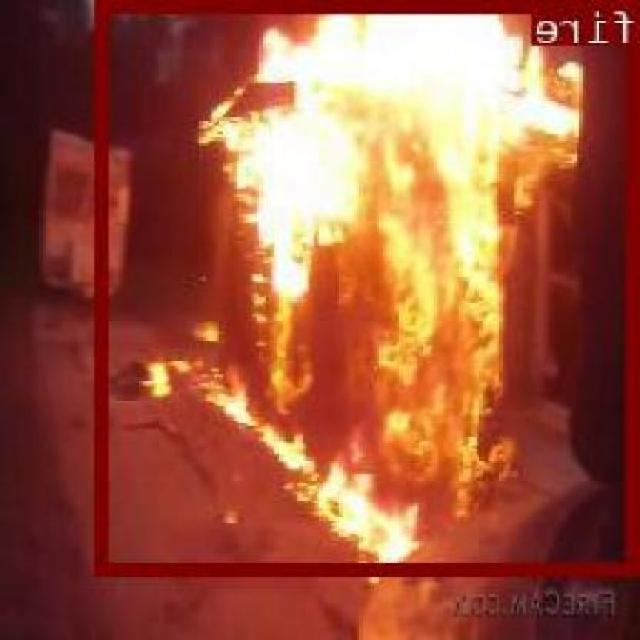Fire: (97, 0, 640, 574)
